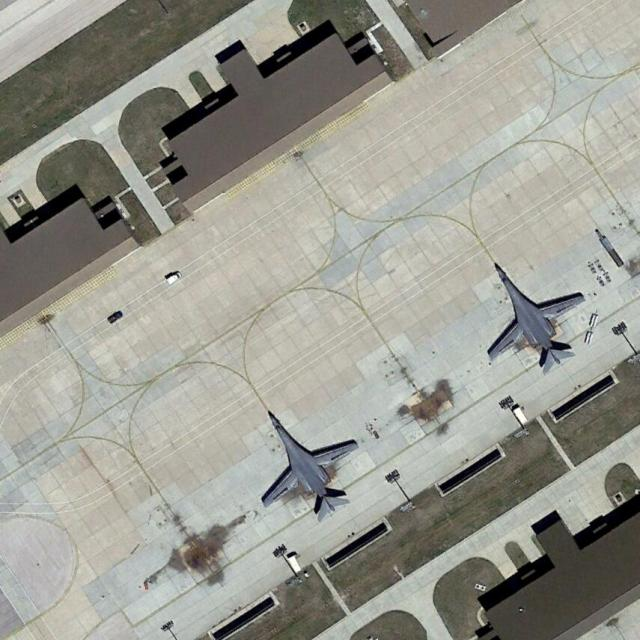fighter jet: (473, 254, 574, 368), (255, 402, 358, 510)
